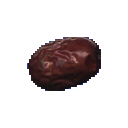gd: (21, 24, 109, 106)
